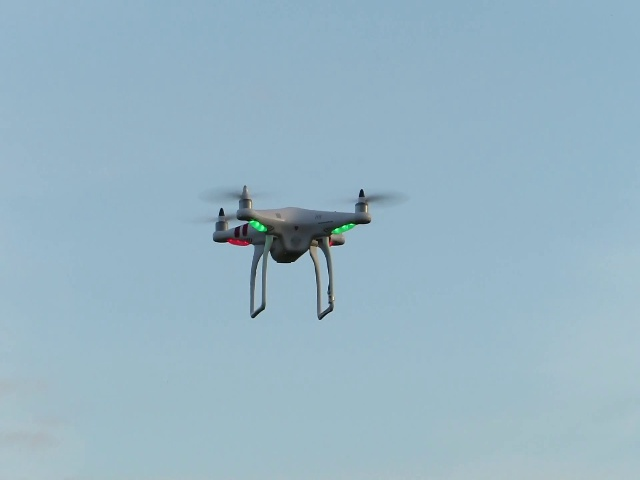drone: (191, 183, 403, 323)
